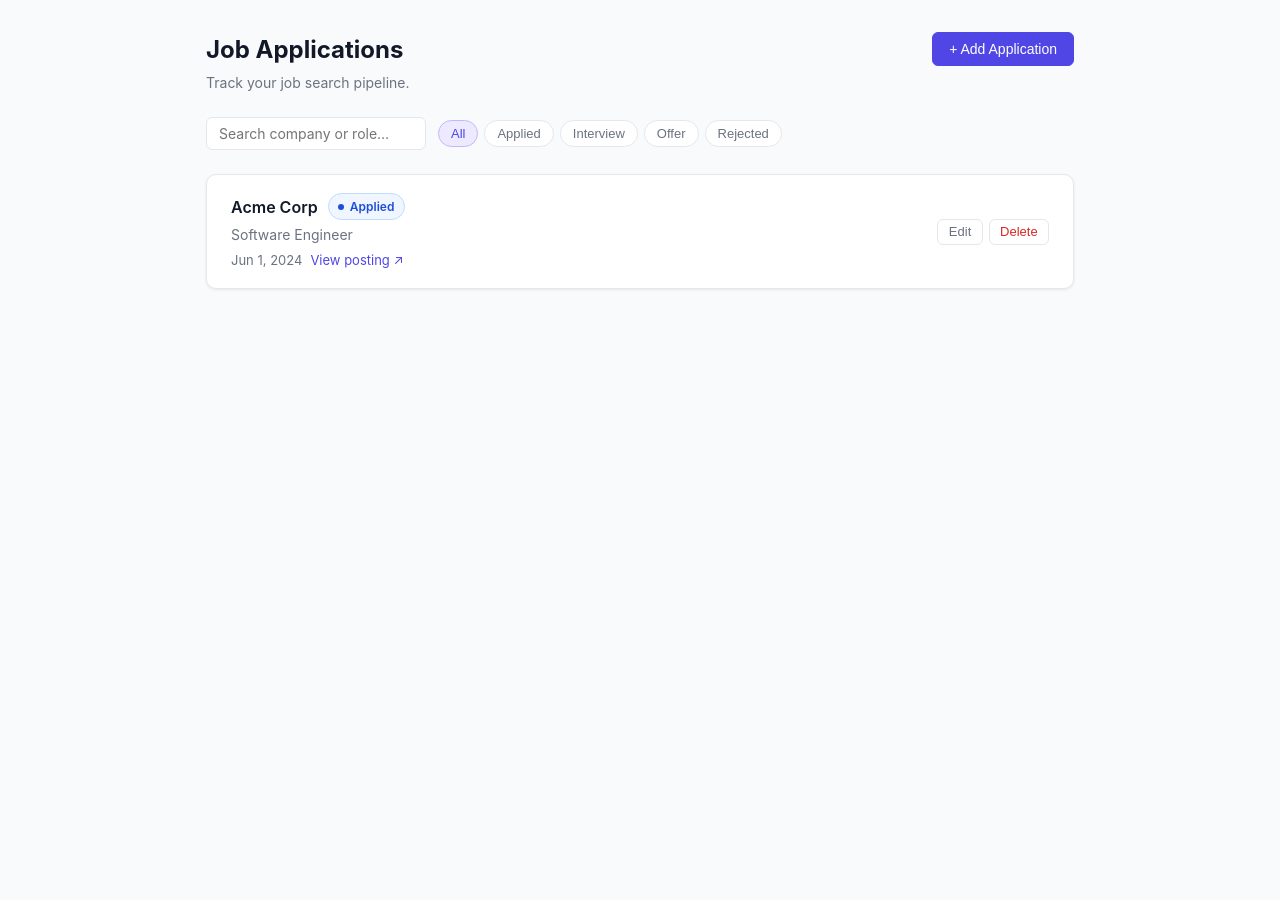
Test case: ApplicationListView › shows error in delete dialog when removeApplication fails
Click the button "Delete": click(1019, 232) [989,218,1049,245]
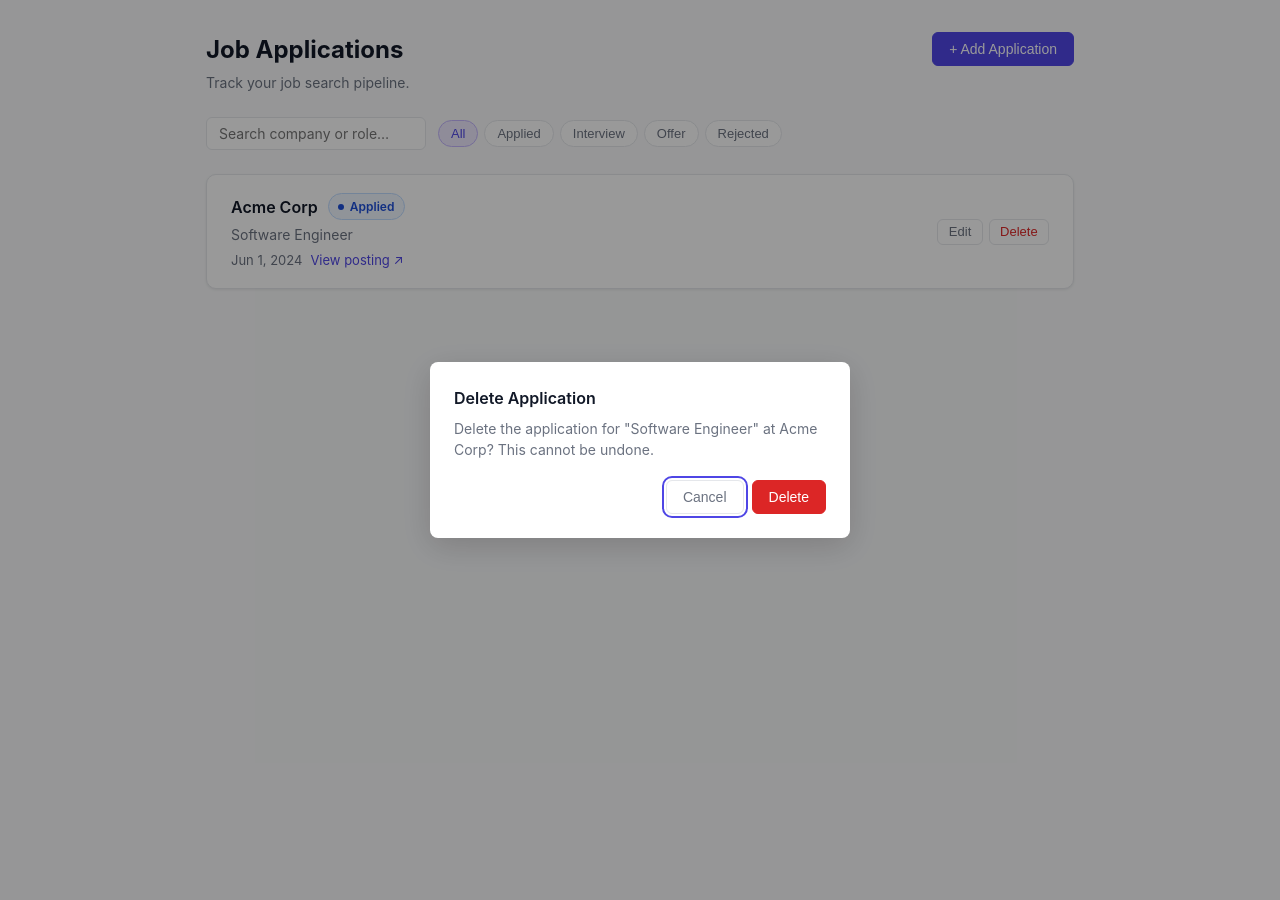
Click the button with class "btn-danger": click(789, 497) [752,480,826,514]
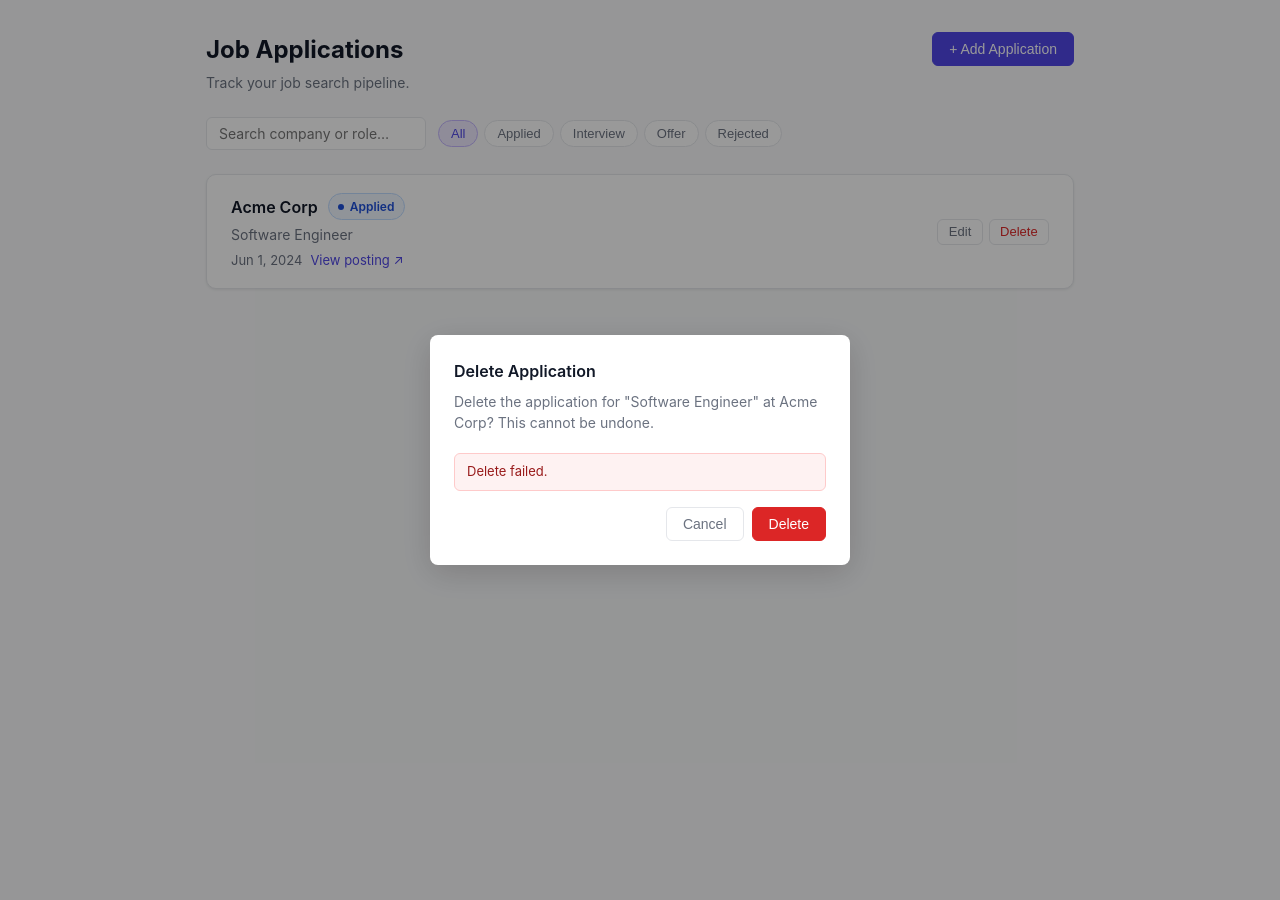
expect the text "Delete failed." is shown: met, box [454,453,826,491]
